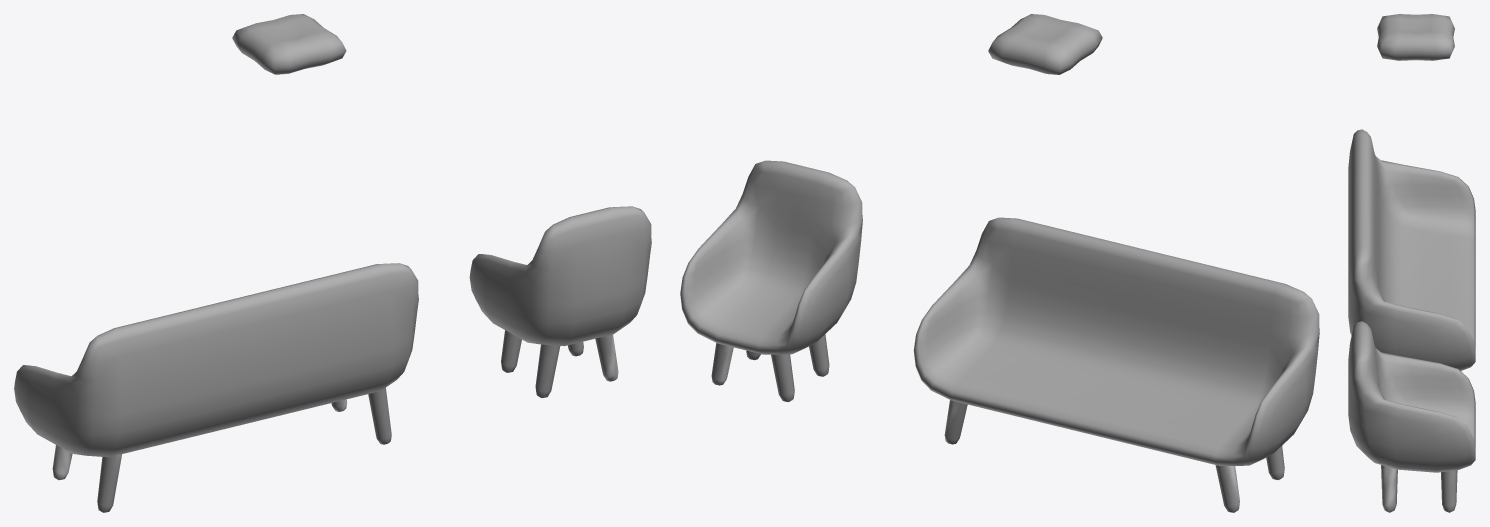
The model's file is Sofa.fbx.
3 views of the same model, side by side, from view 1: azimuth 30°, elevation 25°; view 2: azimuth 150°, elevation 25°; view 3: azimuth 270°, elevation 25° (orthographic). The views are drawn at different scales.
Parts seen in each view (by area): view 1: pCube246, pCube247, pCube242; view 2: pCube246, pCube247, pCube242; view 3: pCube246, pCube247, pCube242.
Part boxes in pixels (x1=…): pCube246: x1=14, y1=263, x2=418, y2=512; pCube247: x1=469, y1=206, x2=651, y2=398; pCube242: x1=232, y1=14, x2=346, y2=74; pCube246: x1=913, y1=217, x2=1319, y2=512; pCube247: x1=680, y1=160, x2=862, y2=402; pCube242: x1=988, y1=14, x2=1102, y2=74; pCube246: x1=1348, y1=129, x2=1475, y2=370; pCube247: x1=1348, y1=321, x2=1475, y2=512; pCube242: x1=1377, y1=14, x2=1454, y2=60.
Size of the model in its own units: 4.31 by 2.91 by 0.9403.
2 materials, 1 textured.
